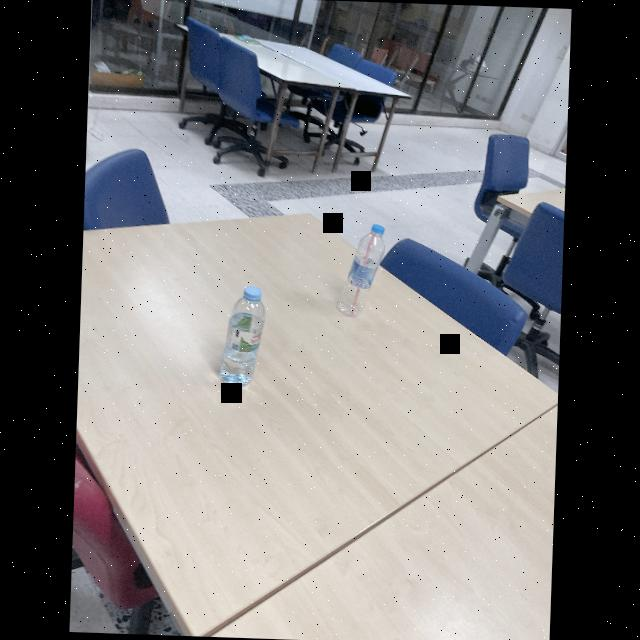plastic_bottle: (213, 284, 270, 392), (332, 218, 390, 322)
plastic_bottle_cap: (242, 284, 262, 303), (371, 224, 383, 234)
straw: (350, 230, 376, 316)
